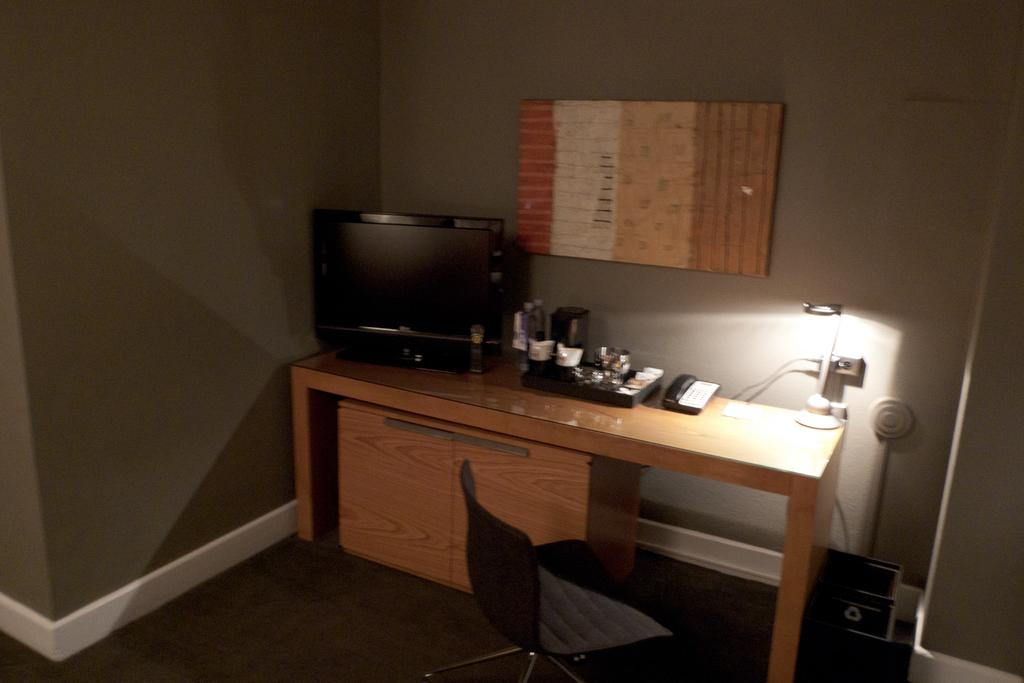cabinet_door: (346, 416, 450, 564)
handle: (462, 434, 526, 464), (386, 415, 450, 442)
